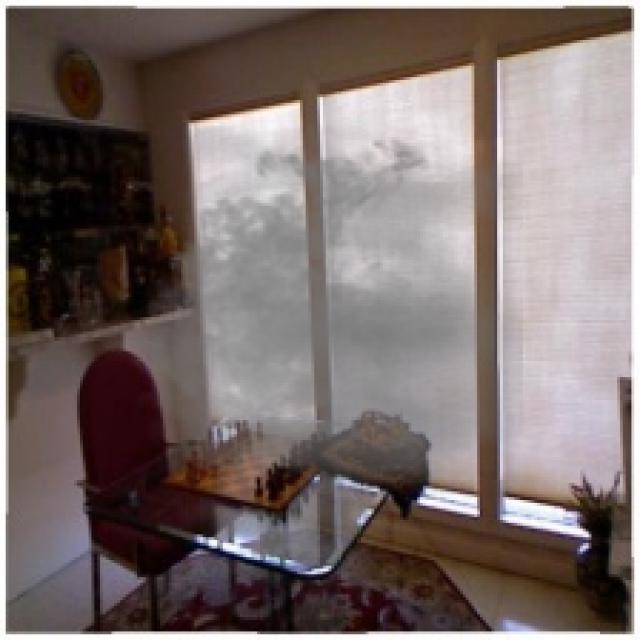smoke: (120, 126, 523, 494)
